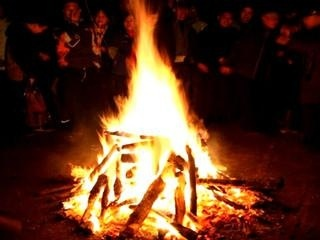fire: (90, 0, 244, 231)
